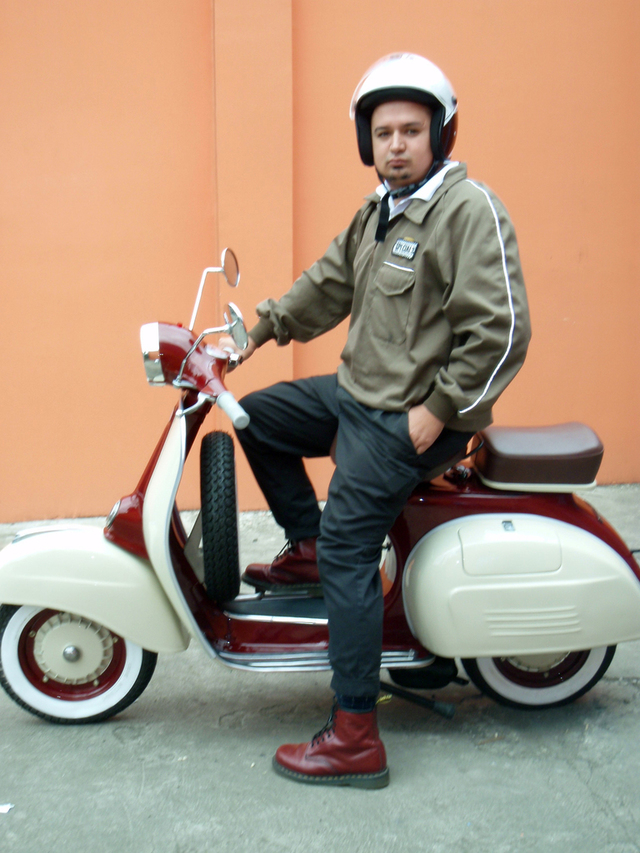helmet: (335, 63, 464, 154)
